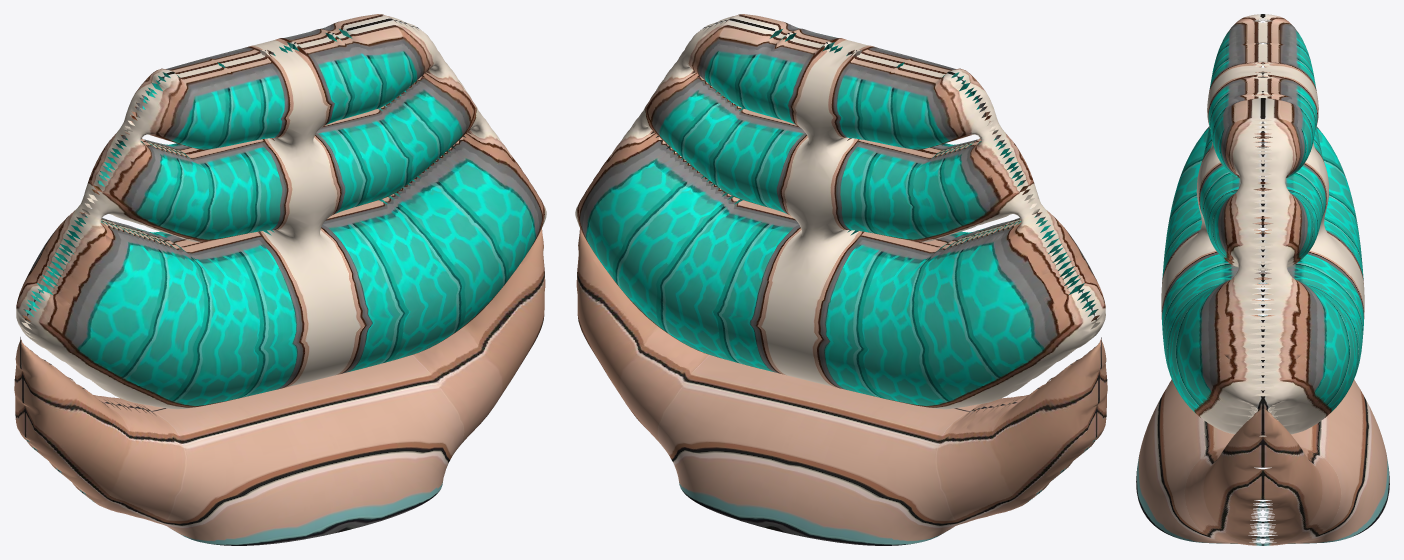
File: reactor_body.glb
The picture shows the model from 3 angles, left to right: view 1: azimuth 30°, elevation 25°; view 2: azimuth 150°, elevation 25°; view 3: azimuth 270°, elevation 25°; orthographic projection. The views are drawn at different scales.
Visible parts, largest first — view 1: reactor_body; view 2: reactor_body; view 3: reactor_body.
Boxes of the visible parts, x1,y1,x2,y2 form: reactor_body: (14,14,546,545); reactor_body: (575,14,1107,545); reactor_body: (1136,14,1389,545).
Size of the model in its own units: 0.9901 by 0.7944 by 0.4379.
1 material, 1 textured.
